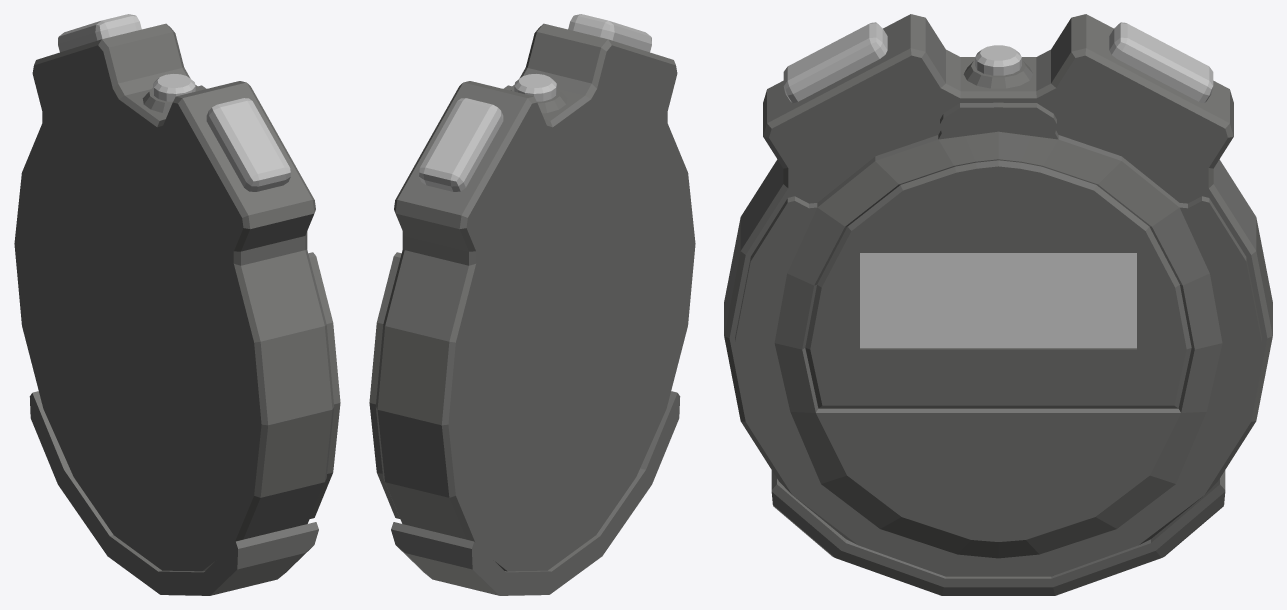
Rendered from StopWatch.fbx.
3 renders of one model, left to right at view 1: azimuth 30°, elevation 25°; view 2: azimuth 150°, elevation 25°; view 3: azimuth 270°, elevation 25°, orthographic. The views are drawn at different scales.
Parts seen in each view (by area): view 1: Stop Watch; view 2: Stop Watch; view 3: Stop Watch, Glass Piece.
Boxes of the visible parts, left/top/right/bottom form: Stop Watch: left=14, top=14, right=340, bottom=595; Stop Watch: left=369, top=14, right=695, bottom=595; Stop Watch: left=724, top=14, right=1272, bottom=595; Glass Piece: left=860, top=253, right=1136, bottom=347.
Size of the model in its own units: 88.17 by 447 by 404.
